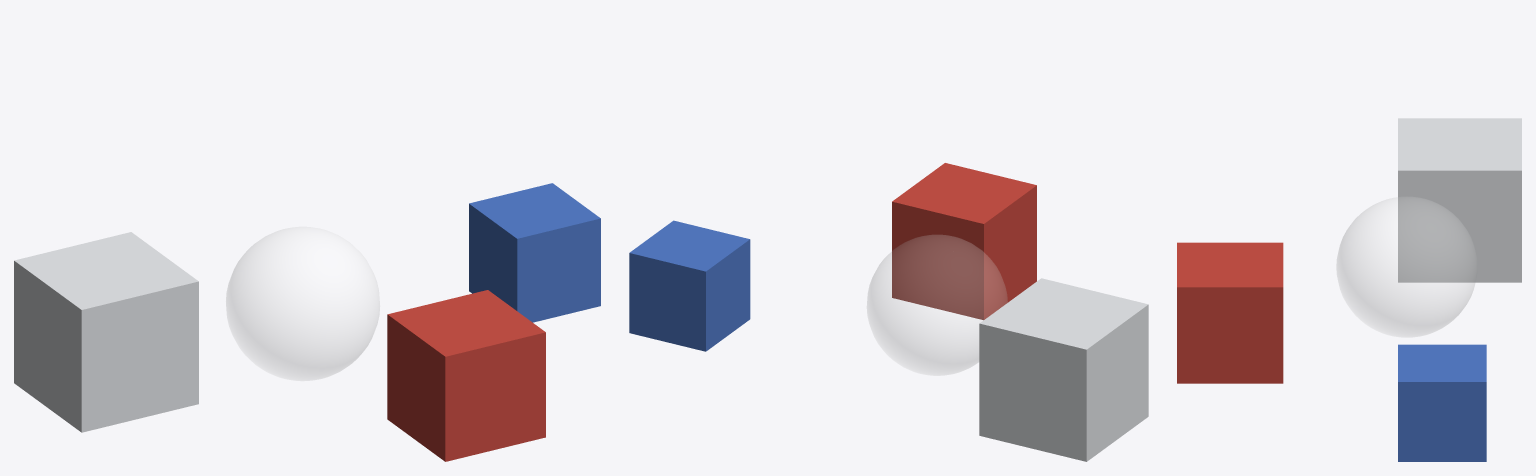
The model's file is sample.glb.
The picture shows the model from 3 angles, left to right: view 1: azimuth 30°, elevation 25°; view 2: azimuth 150°, elevation 25°; view 3: azimuth 270°, elevation 25°; orthographic projection. The views are drawn at different scales.
Visible parts, largest first — view 1: metal-brushed, painted-red, glass-clear, painted-blue; view 2: metal-brushed, painted-red, glass-clear, painted-blue; view 3: metal-brushed, glass-clear, painted-red, painted-blue.
Part boxes in pixels (x1,y1,x2,y2): metal-brushed: (14,232,198,432); painted-red: (387,290,545,461); glass-clear: (226,227,379,380); painted-blue: (469,183,600,322); metal-brushed: (979,278,1148,461); painted-red: (892,163,1036,320); glass-clear: (867,235,1007,375); painted-blue: (629,220,750,351); metal-brushed: (1398,118,1521,282); glass-clear: (1336,197,1477,337); painted-red: (1177,242,1283,383); painted-blue: (1398,344,1486,461).
Size of what is drawn, in the model's own units: 6.2 by 3.4 by 3.9.
